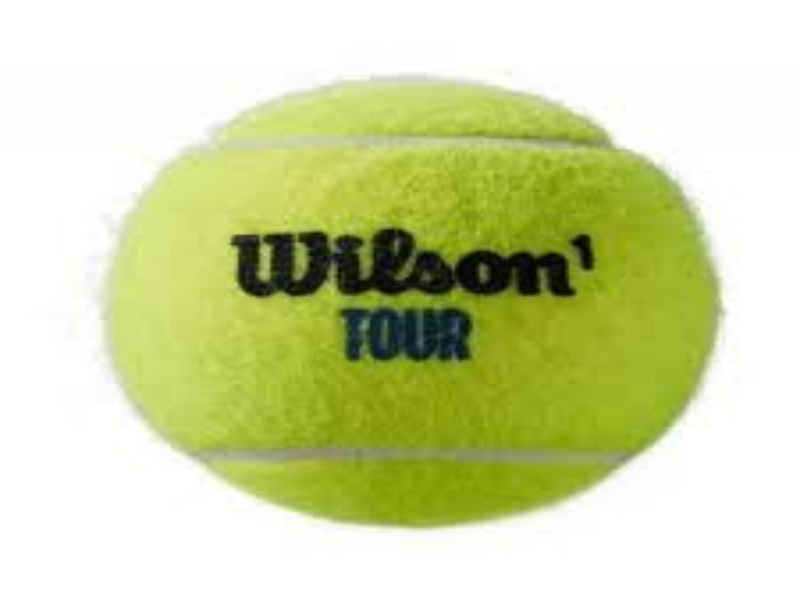tennis ball: (105, 87, 736, 521)
